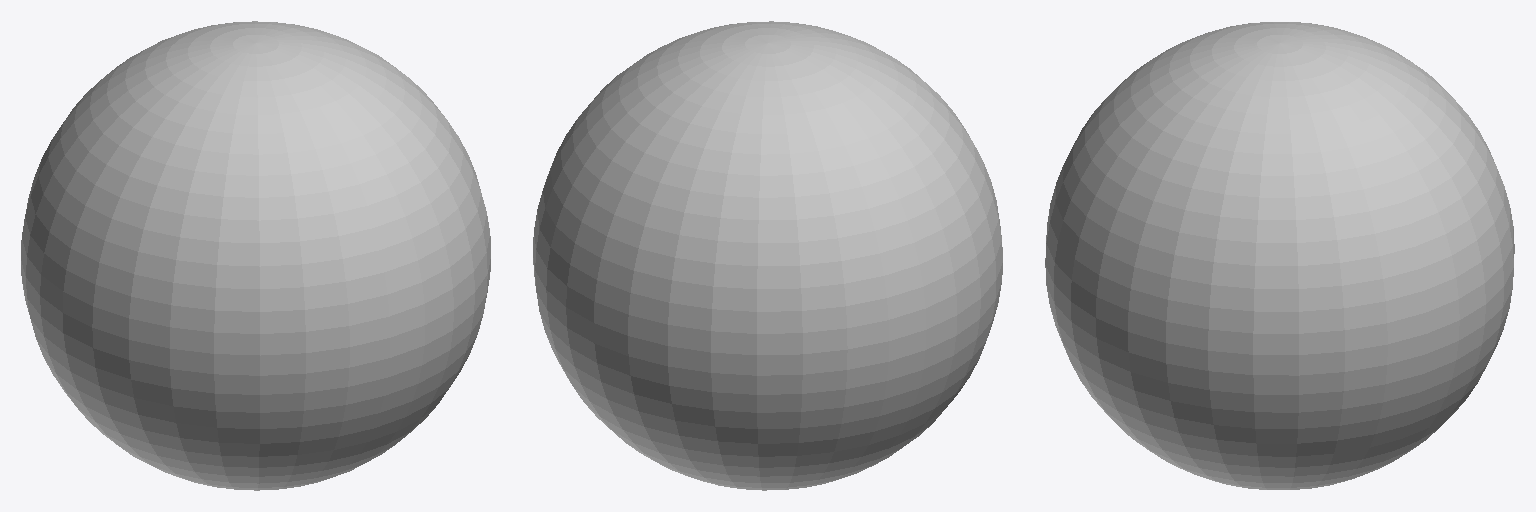
The model's file is venus.obj.
3 views of the same model, side by side, from view 1: azimuth 30°, elevation 25°; view 2: azimuth 150°, elevation 25°; view 3: azimuth 270°, elevation 25° (orthographic).
Visible parts, largest first — view 1: Venus.001_Sphere.007; view 2: Venus.001_Sphere.007; view 3: Venus.001_Sphere.007.
Part boxes in pixels (left/top/right/bottom): Venus.001_Sphere.007: left=21, top=21, right=490, bottom=490; Venus.001_Sphere.007: left=533, top=21, right=1002, bottom=490; Venus.001_Sphere.007: left=1045, top=22, right=1514, bottom=489.
Size of the model in its own units: 6.05 by 6.05 by 6.05.